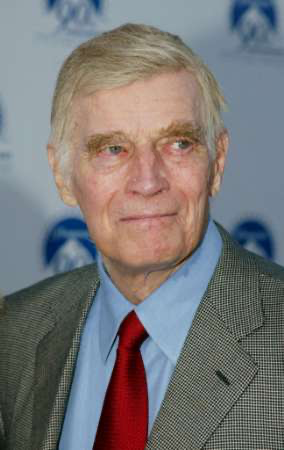Face: (58, 66, 222, 274)
